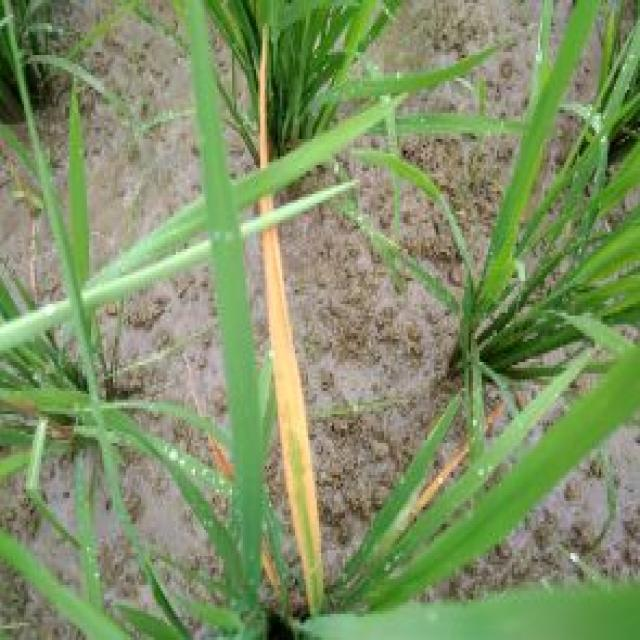Tungro: (234, 22, 348, 640)
